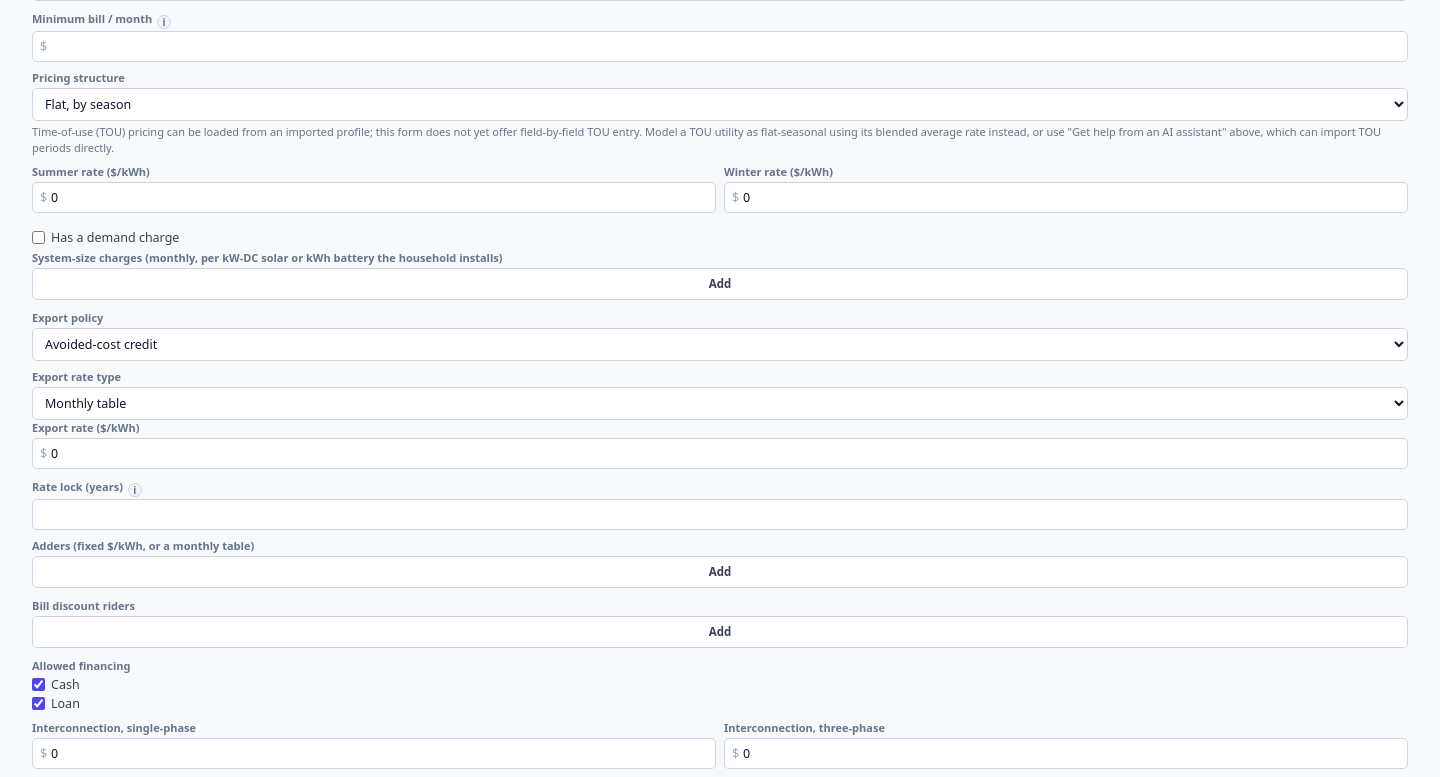
Test: HouseholdSection: export-rate kind picker › switching to monthlyTable renders 12 month inputs and round-trips edits
(page scrolled)
Select "Monthly table" in the dropdown below "Export rate type" at (720, 403), box [32, 387, 1408, 420]
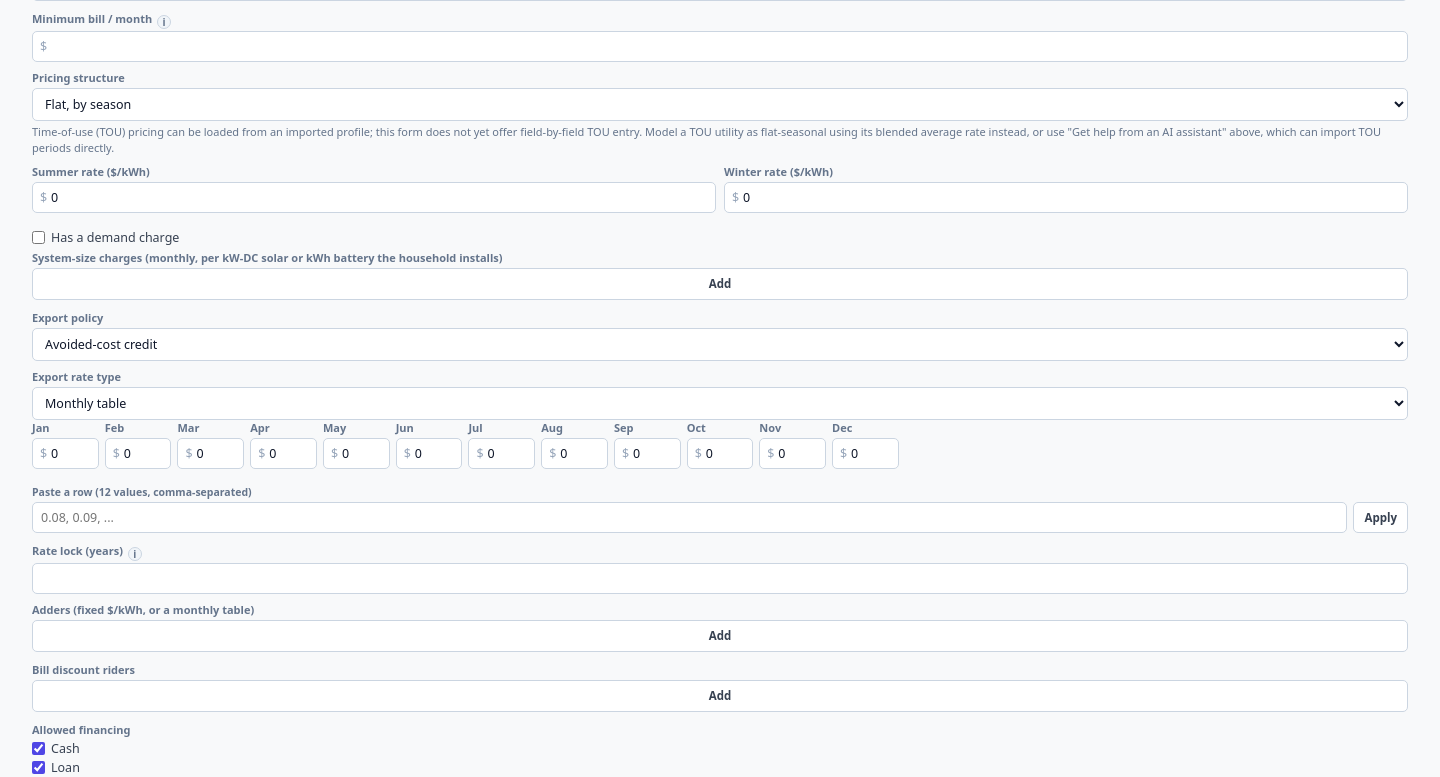
Check: the text "Jan" is shown, box [32, 420, 50, 435]
Check: the text "Dec" is shown, box [832, 420, 852, 435]
